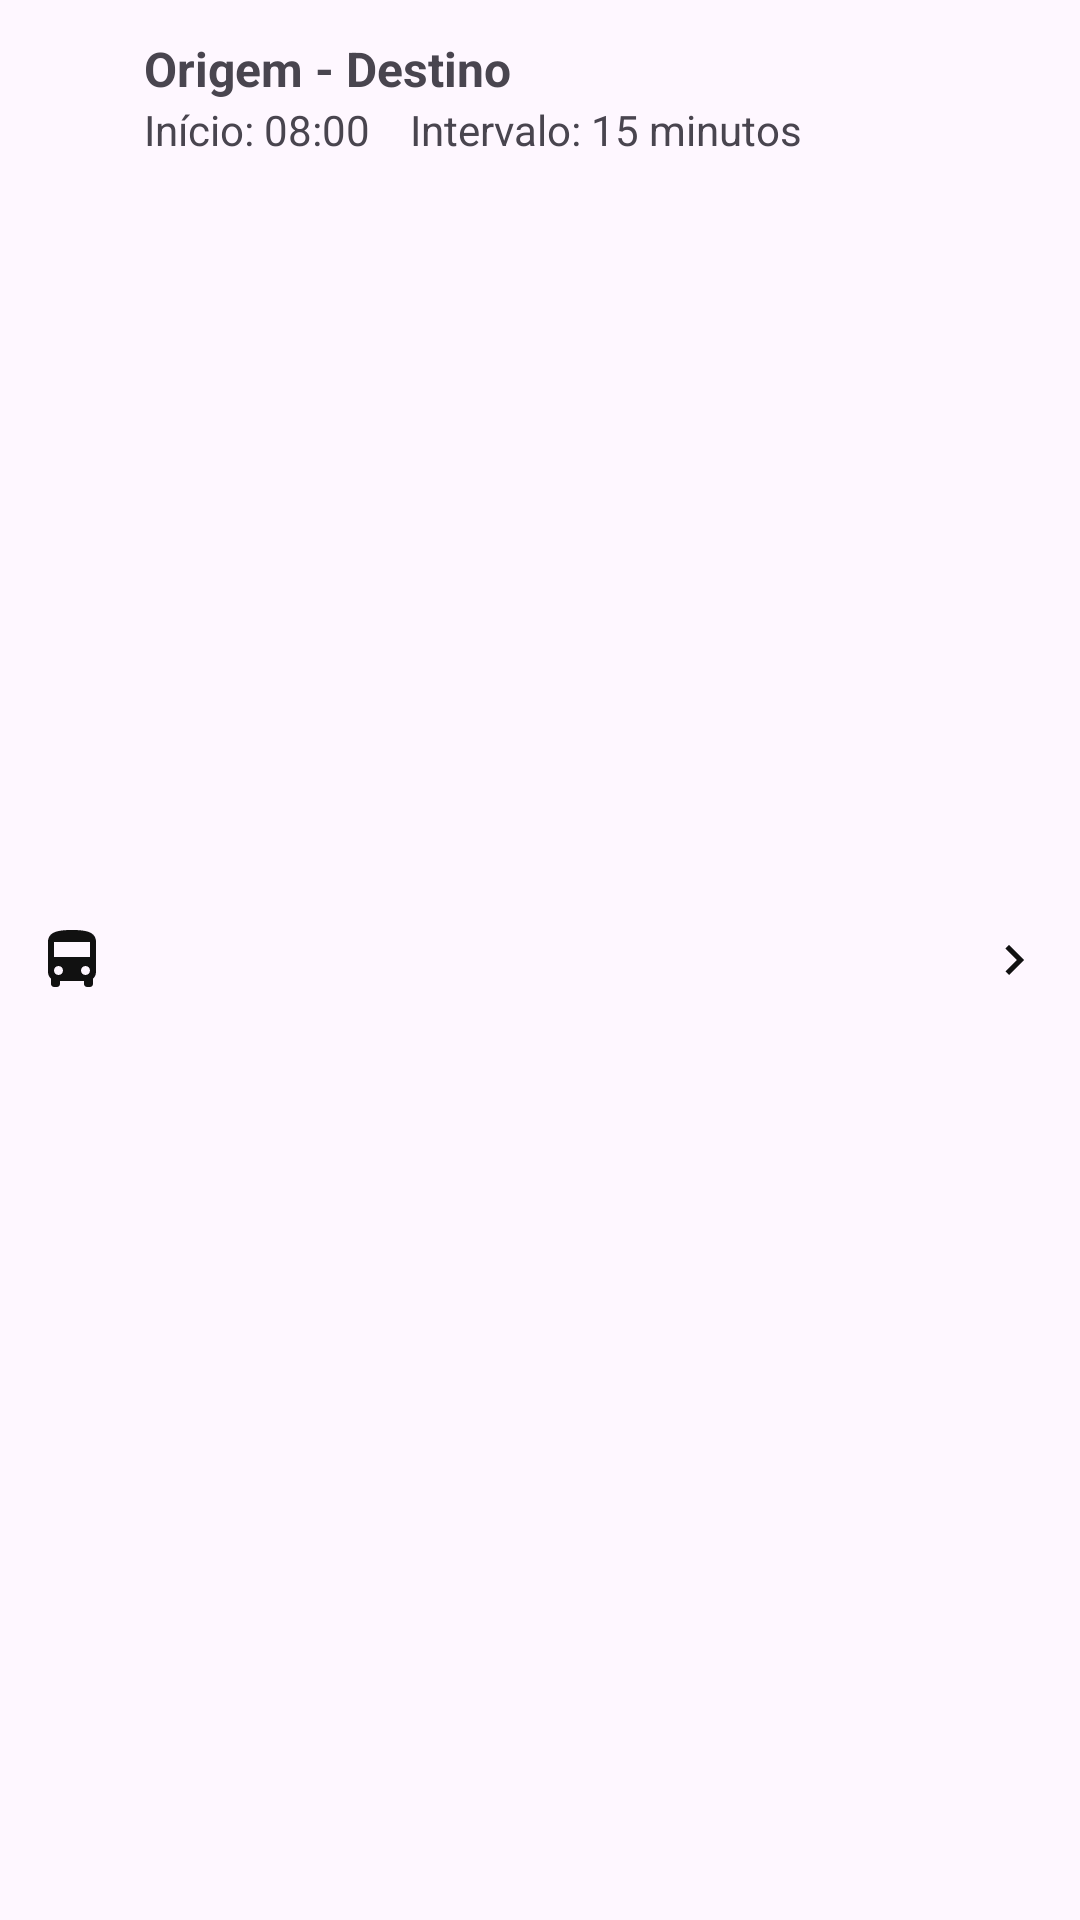

Named icons in this screenshot (1080x1920) and their centers, [x,y]:
chevron right: [1014,960]
directions bus: [72,958]
